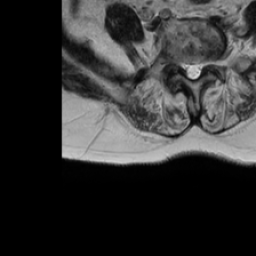CCS_stenosis: (189, 55, 196, 87)
LFS_stenosis: (203, 49, 211, 74)
LLS_normal: (196, 55, 203, 81)
RFS_stenosis: (174, 48, 182, 73)
RLS_normal: (182, 54, 189, 82)
